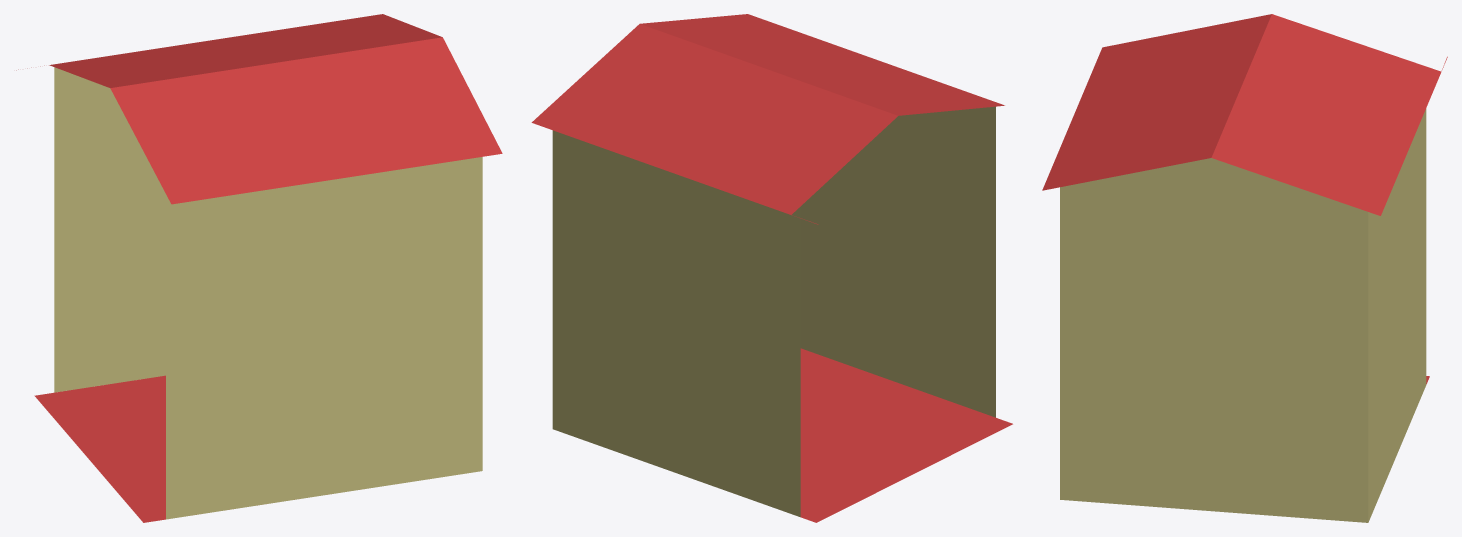
3 renders of one model, left to right at view 1: azimuth 30°, elevation 25°; view 2: azimuth 150°, elevation 25°; view 3: azimuth 270°, elevation 25°, orthographic. The views are drawn at different scales.
Visible parts, largest first — view 1: group_5, group_3, group_6, group_4; view 2: group_5, group_3, group_6, group_4; view 3: group_5, group_3, group_4.
Part boxes in pixels (box(x1,y1,x2,y2)): group_5: box(54, 67, 482, 519); group_3: box(18, 14, 502, 204); group_6: box(34, 375, 165, 522); group_4: box(51, 14, 498, 202); group_5: box(552, 106, 995, 517); group_3: box(531, 14, 1004, 224); group_6: box(800, 348, 1012, 522); group_4: box(533, 15, 1002, 222); group_5: box(1060, 108, 1426, 522); group_3: box(1042, 14, 1447, 215); group_4: box(1050, 45, 1440, 214).
Size of the model in its own units: 6.83 by 6.6 by 6.46.
